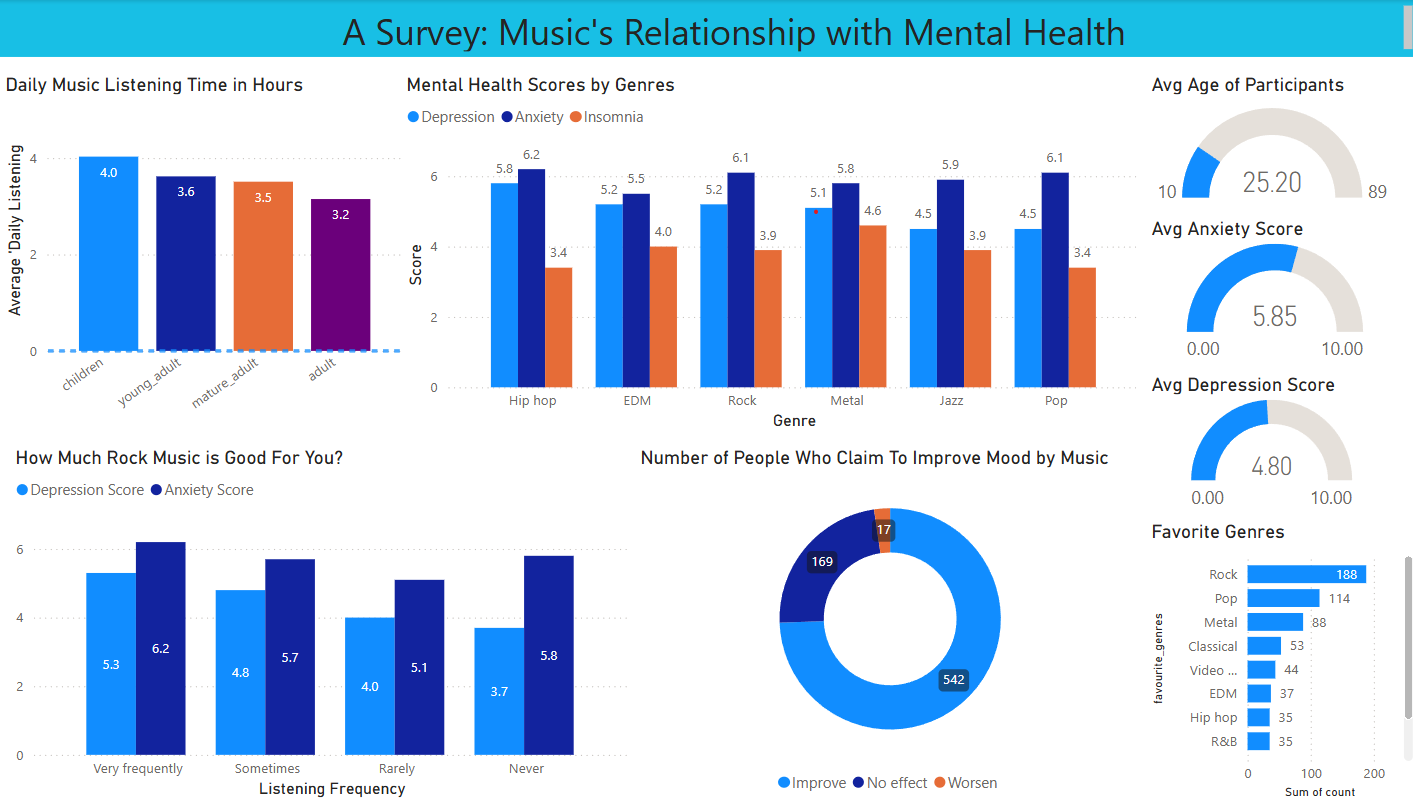

What the dashboard file says about the page in this screenshot:
{"tool":"powerbi","page":{"name":"Page 1","canvas":[1280,720],"ordinal":0},"visuals":[{"type":"textbox","box":[9.7,0,1270.3,50.6],"z":0},{"type":"gauge","title":"Avg Age of Participants","fields":{"Y":["Sum(public avg_age.round)"],"MinValue":["Min(public user_info_with_age_group.age)"],"MaxValue":["Max(public user_info_with_age_group.age)1"]},"box":[1035.9,65.2,225.7,129.4],"z":1000},{"type":"columnChart","title":"Daily Music Listening Time in Hours","fields":{"Category":["public avg_daily_listening_age_groups.age_group"],"Y":["Avg(public avg_daily_listening_age_groups.avg_daily_listening)"],"Series":["public avg_daily_listening_age_groups.age_group"]},"box":[9.7,65.2,366.7,324.9],"z":2000},{"type":"barChart","title":"Favorite Genres","fields":{"Category":["public count_of_fav_genres.favourite_genres"],"Y":["Sum(public count_of_fav_genres.count)"]},"box":[1035.9,465.9,244.1,253.9],"z":3000},{"type":"gauge","title":"Avg Anxiety Score","fields":{"MinValue":["Min(public mental_health_scores.anxiety)"],"MaxValue":["Max(public mental_health_scores.anxiety)1"],"Y":["Avg(public mental_health_scores.anxiety)2"]},"box":[1035.9,194.5,231.5,139.1],"z":4000},{"type":"gauge","title":"Avg Depression Score","fields":{"Y":["Avg(public mental_health_scores.depression)"],"MinValue":["Min(public mental_health_scores.depression)"],"MaxValue":["Max(public mental_health_scores.depression)1"]},"box":[1035.9,333.6,225.7,132.3],"z":5000},{"type":"clusteredColumnChart","title":"How Much Rock Music is Good For You?","fields":{"Category":["public avg_rock_listeners.rock"],"Y":["Avg(public avg_rock_listeners.avg_depression_score)","Avg(public avg_rock_listeners.avg_anxiety)"]},"box":[18.5,399.8,560.2,320],"z":6000},{"type":"donutChart","title":"Number of People Who Claim To Improve Mood by Music","fields":{"Category":["public num_music_effect.music_effects"],"Y":["Sum(public num_music_effect.no_of_people)"]},"box":[578.7,399.8,457.1,320],"z":7000},{"type":"clusteredColumnChart","title":"Mental Health Scores by Genres","fields":{"Category":["public avg_mhealth_scores_different_genres.fav_genre"],"Y":["Sum(public avg_mhealth_scores_different_genres.avg_depression_score)","Sum(public avg_mhealth_scores_different_genres.avg_anxiety_score)","Sum(public avg_mhealth_scores_different_genres.avg_insomnia_score)"]},"box":[368.6,65.2,667.2,324.9],"z":8000}]}

Visuals, with their boxes in screenshot pixels (x1, y1, x2, y2), scaled from the page's 1280x720 canvas onto the 1413x801 screenshot:
textbox: 11:0:1412:56
"Avg Age of Participants" gauge: 1144:73:1393:216
"Daily Music Listening Time in Hours" columnChart: 11:73:416:434
"Favorite Genres" barChart: 1144:518:1412:800
"Avg Anxiety Score" gauge: 1144:216:1399:371
"Avg Depression Score" gauge: 1144:371:1393:518
"How Much Rock Music is Good For You?" clusteredColumnChart: 20:445:639:800
"Number of People Who Claim To Improve Mood by Music" donutChart: 639:445:1143:800
"Mental Health Scores by Genres" clusteredColumnChart: 407:73:1143:434
